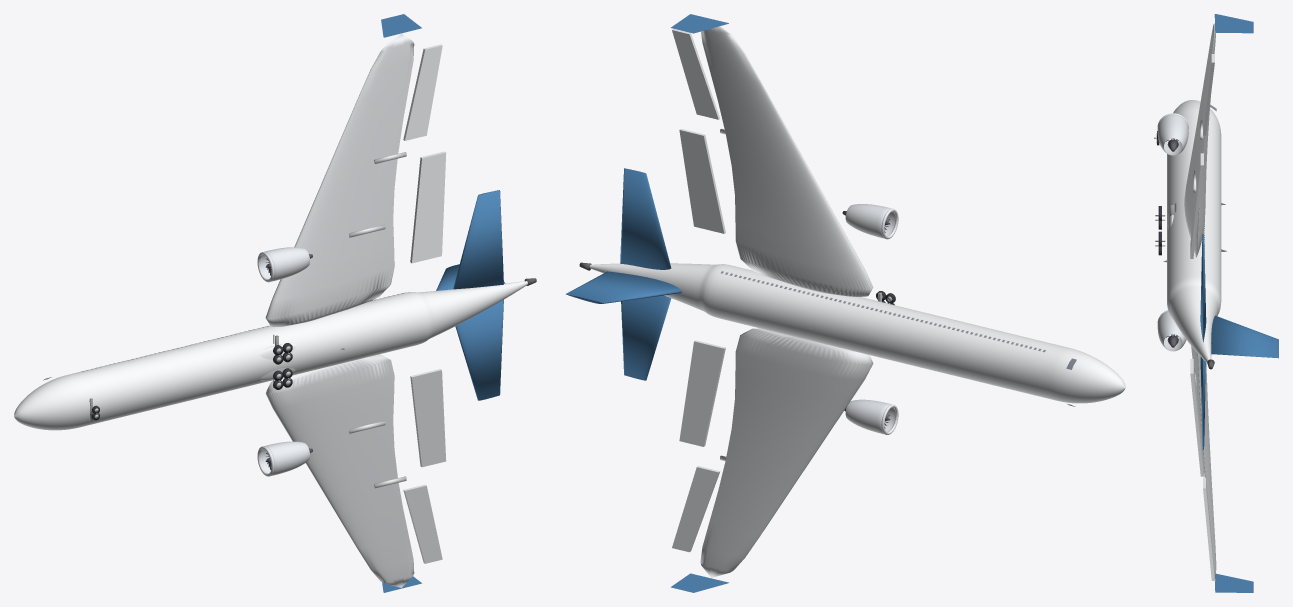
The picture shows the model from 3 angles, left to right: view 1: azimuth 30°, elevation 25°; view 2: azimuth 150°, elevation 25°; view 3: azimuth 270°, elevation 25°; orthographic projection.
Parts seen in each view (by area): view 1: Fuselage, Wing_R, Wing_L, HStab_R, HStab_L, Flap_R, Flap_L, Aileron_R, Aileron_L, Nacelle_-1_0, Nacelle_1_0; view 2: Fuselage, Wing_L, Wing_R, HStab_R, Flap_L, HStab_L, Flap_R, Fin, Aileron_L, Aileron_R, Nacelle_1_0, Nacelle_-1_0; view 3: Fuselage, Wing_R, Fin, Wing_L, Nacelle_1_0, Nacelle_-1_0, Sharklet_R, Sharklet_L, Flap_L, Flap_R, HStab_R, Aileron_L (+2 smaller).
Boxes of the visible parts, box(x1,y1,x2,y2) form: Fuselage: box(14, 281, 527, 430); Wing_R: box(265, 33, 414, 326); Wing_L: box(265, 354, 414, 587); HStab_R: box(453, 190, 503, 289); HStab_L: box(455, 300, 503, 400); Flap_R: box(410, 151, 446, 263); Flap_L: box(410, 369, 446, 467); Aileron_R: box(403, 44, 442, 140); Aileron_L: box(403, 484, 442, 563); Nacelle_-1_0: box(260, 441, 309, 475); Nacelle_1_0: box(260, 247, 309, 281); Fuselage: box(589, 263, 1125, 403); Wing_L: box(700, 328, 873, 577); Wing_R: box(701, 26, 873, 296); HStab_R: box(620, 168, 671, 269); Flap_L: box(679, 340, 725, 446); HStab_L: box(621, 295, 671, 380); Flap_R: box(679, 129, 725, 233); Fin: box(566, 271, 681, 303); Aileron_L: box(672, 466, 720, 552); Aileron_R: box(672, 29, 720, 119); Nacelle_1_0: box(845, 204, 895, 238); Nacelle_-1_0: box(845, 399, 895, 434); Fuselage: box(1167, 100, 1221, 362); Wing_R: box(1184, 23, 1215, 257); Fin: box(1211, 315, 1278, 358); Wing_L: box(1191, 346, 1216, 580); Nacelle_1_0: box(1157, 114, 1188, 155); Nacelle_-1_0: box(1157, 311, 1186, 351); Sharklet_R: box(1214, 14, 1253, 33); Sharklet_L: box(1215, 573, 1253, 592); Flap_L: box(1190, 359, 1203, 476); Flap_R: box(1190, 153, 1203, 258); HStab_R: box(1200, 233, 1206, 342); Aileron_L: box(1203, 477, 1214, 580).
Bounding box in the file's own units: 64.08 × 64 × 12.94.
